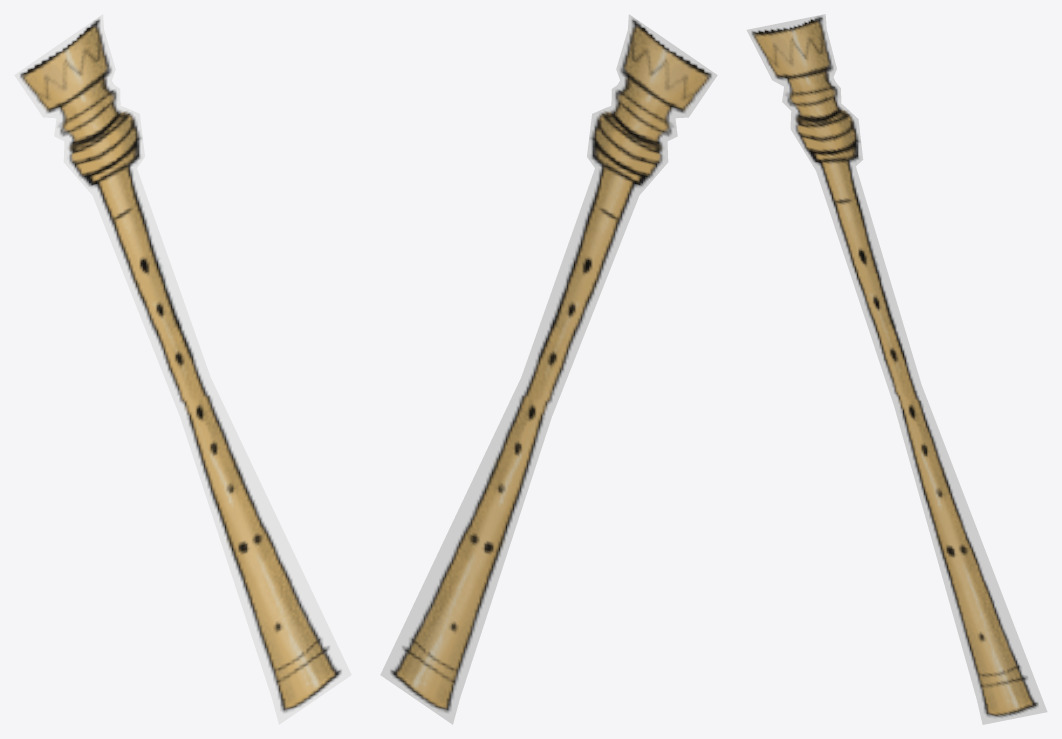
3 renders of one model, left to right at view 1: azimuth 30°, elevation 25°; view 2: azimuth 150°, elevation 25°; view 3: azimuth 330°, elevation 25°, orthographic. The views are drawn at different scales.
Visible parts, largest first — view 1: Plane; view 2: Plane; view 3: Plane.
Boxes of the visible parts, <box> form: Plane: <box>14,14,351,724</box>; Plane: <box>380,14,717,724</box>; Plane: <box>746,14,1047,724</box>.
Size of the model in its own units: 1.44 by 3.07 by 0.
1 material, 1 textured.
